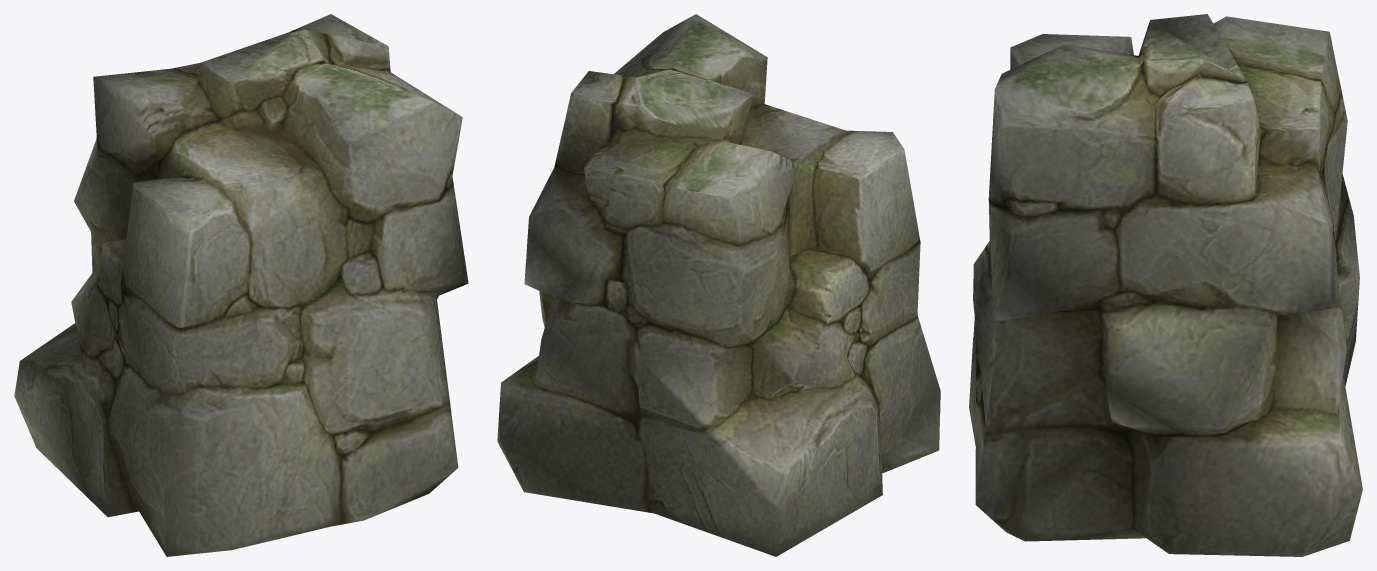
File: GongYong_SuiShi_7.fbx
3 renders of one model, left to right at view 1: azimuth 30°, elevation 25°; view 2: azimuth 150°, elevation 25°; view 3: azimuth 270°, elevation 25°, orthographic. The views are drawn at different scales.
Visible parts, largest first — view 1: GongYong_SuiShi_7; view 2: GongYong_SuiShi_7; view 3: GongYong_SuiShi_7.
Part boxes in pixels (left/top/right/bottom): GongYong_SuiShi_7: left=14, top=14, right=468, bottom=556; GongYong_SuiShi_7: left=497, top=14, right=940, bottom=556; GongYong_SuiShi_7: left=969, top=14, right=1362, bottom=556.
Bounding box in the file's own units: 123 × 150 × 116.
